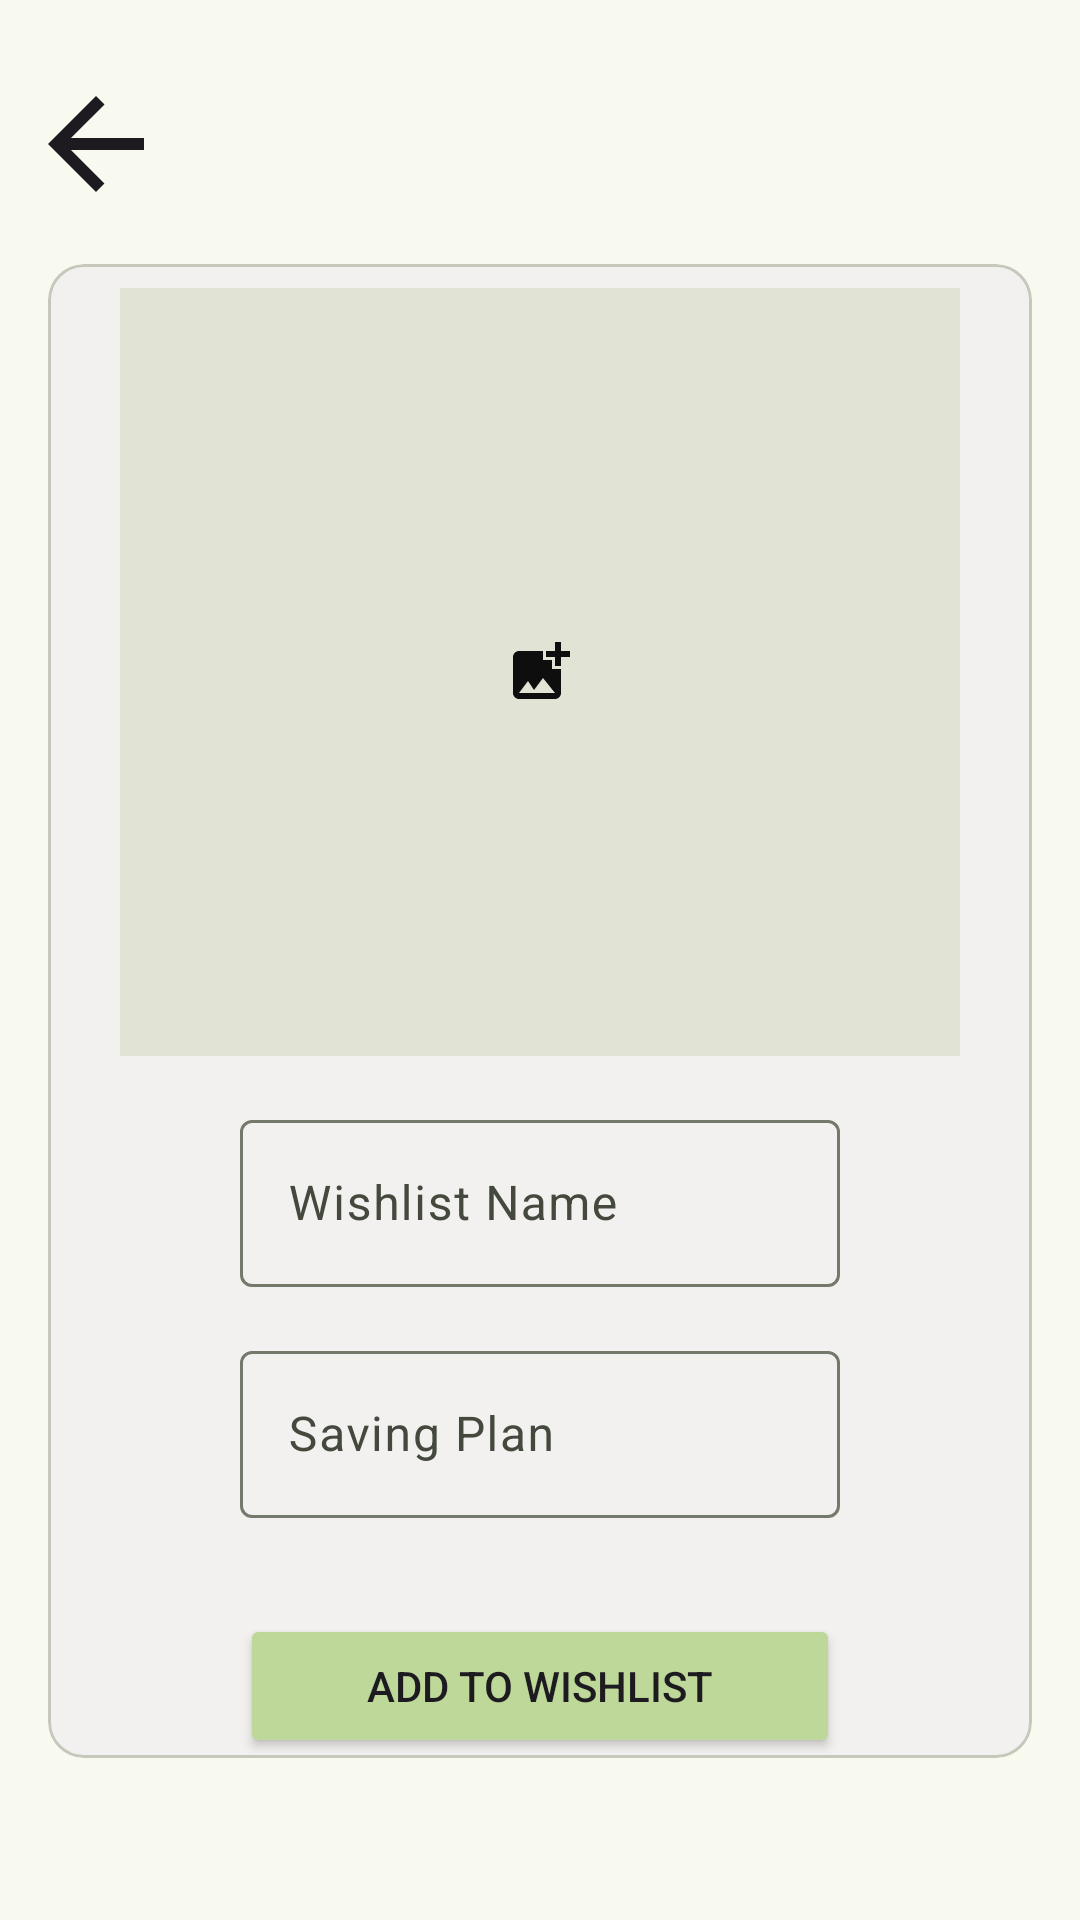

Icon click points for this 1080×1920 phone screenshot, format (x=x, y=y):
arrow back: (x=96, y=144)
